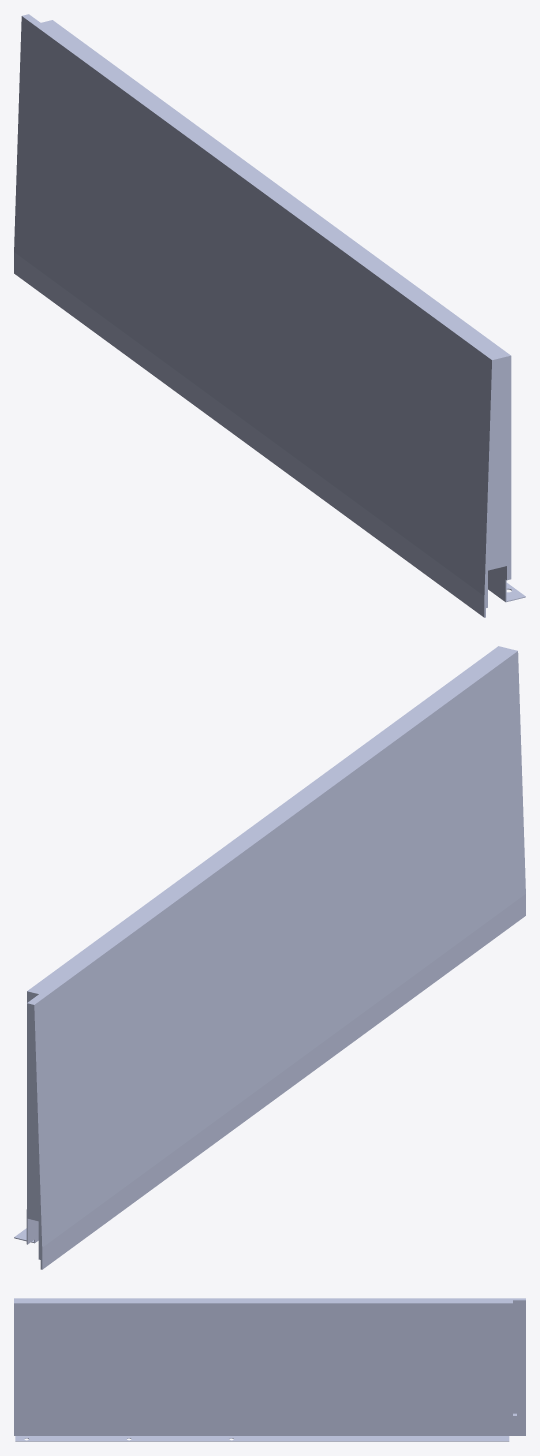
File: mv-kava-E650-p.glb
3 views of the same model, one above another, from view 1: azimuth 30°, elevation 25°; view 2: azimuth 150°, elevation 25°; view 3: azimuth 270°, elevation 25° (orthographic). The views are drawn at different scales.
Visible parts, largest first — view 1: 42983335; view 2: 42983335; view 3: 42983335.
Boxes of the visible parts, x1,y1,x2,y2 form: 42983335: (14, 14, 525, 617); 42983335: (14, 646, 525, 1269); 42983335: (14, 1298, 525, 1441).
Bounding box in the file's own units: 0.0335 × 0.192 × 0.6402.
